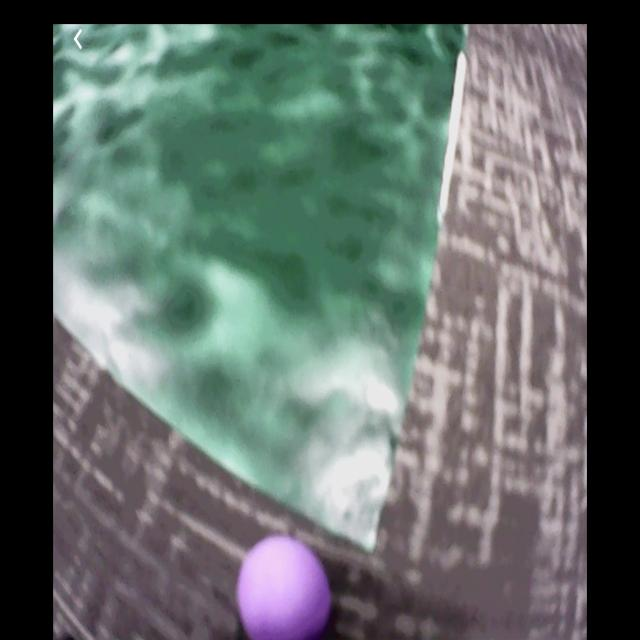ball: (240, 539, 332, 640)
